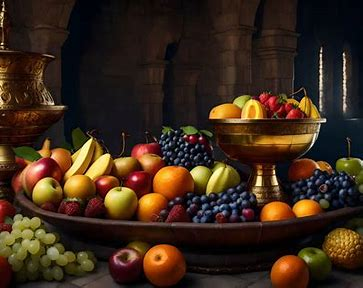inorganic: (0, 213, 98, 279), (172, 184, 260, 221), (288, 166, 360, 206), (153, 125, 212, 169), (138, 242, 191, 281), (189, 162, 241, 198), (148, 166, 198, 199), (25, 141, 67, 179), (109, 240, 146, 283), (69, 140, 113, 176), (259, 87, 305, 121), (294, 243, 334, 282), (325, 227, 361, 270), (262, 197, 323, 220), (263, 257, 309, 285), (106, 183, 138, 220), (129, 141, 161, 175), (58, 194, 105, 217), (29, 179, 64, 207), (294, 92, 330, 117), (139, 192, 170, 219), (65, 174, 96, 199), (125, 169, 153, 195), (110, 153, 139, 177), (235, 92, 266, 114), (96, 170, 121, 196), (203, 104, 242, 120)
organic: (10, 198, 360, 246), (209, 118, 328, 203), (3, 50, 67, 187)
